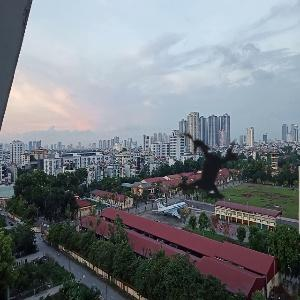drone: (137, 103, 274, 240)
